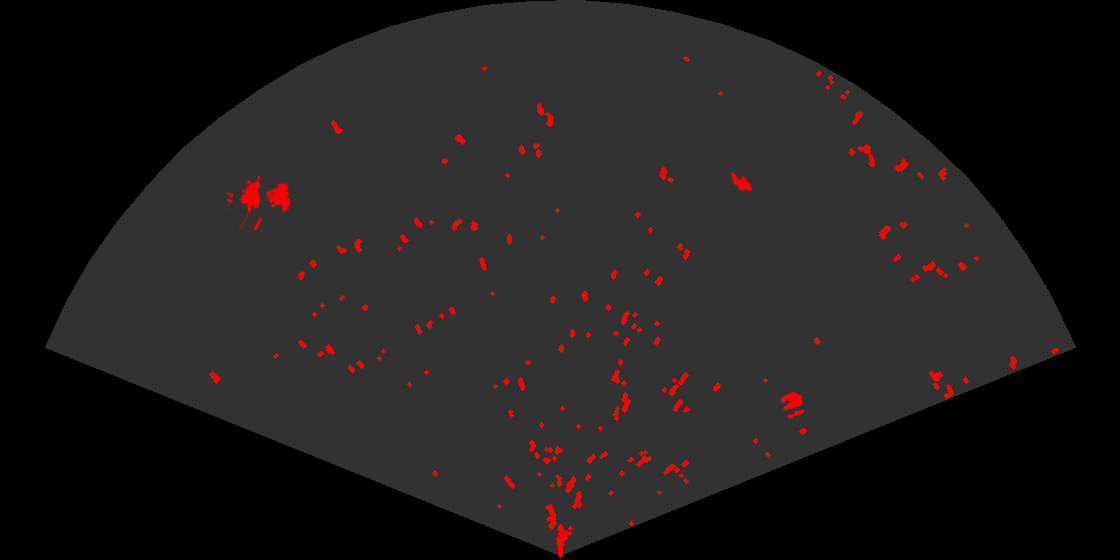AUV: (725, 171, 754, 194)
ball: (779, 390, 806, 420)
cage: (227, 174, 292, 230)
